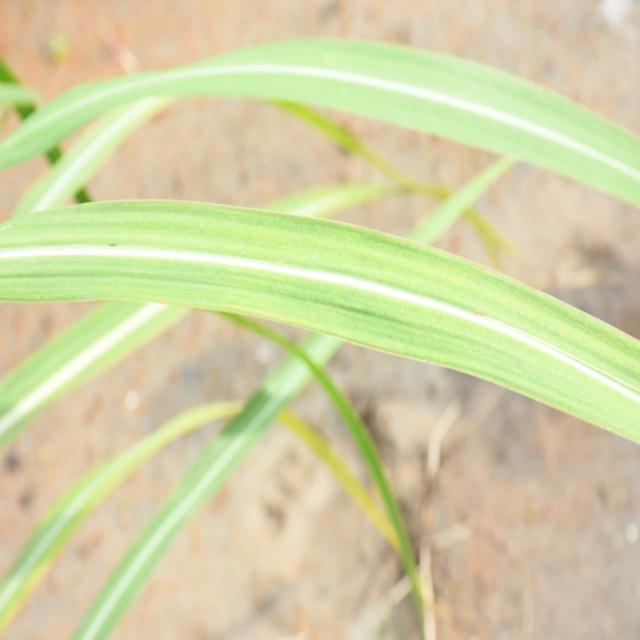Sugarcane: (0, 214, 640, 450)
